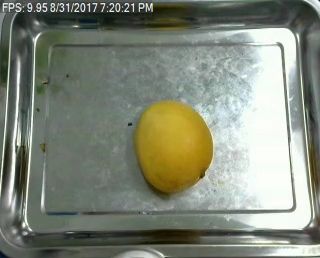Mango: (134, 99, 212, 189)
